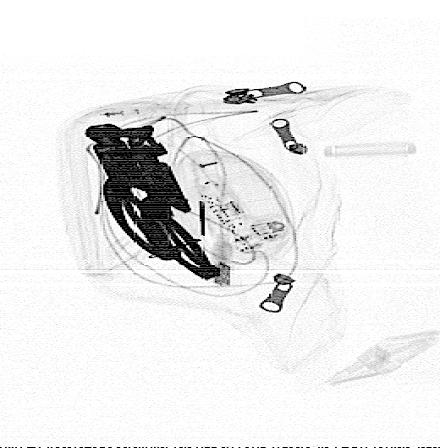HandCuffs: (78, 119, 225, 284)
